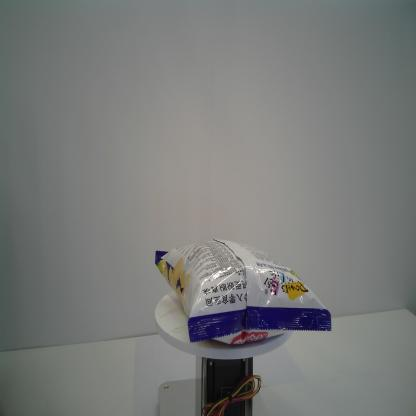Puffed Food: (153, 236, 332, 347)
